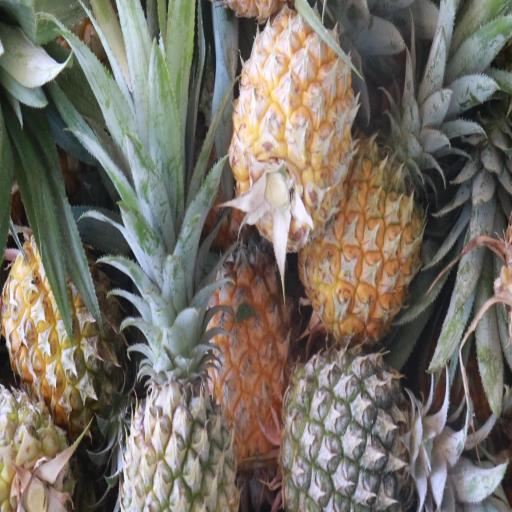------------------------------: (2, 230, 123, 422)
Pineapple - v8 v1: (225, 14, 355, 252), (303, 130, 426, 334), (206, 211, 294, 437)
